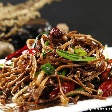chashugu: (1, 26, 112, 110)
